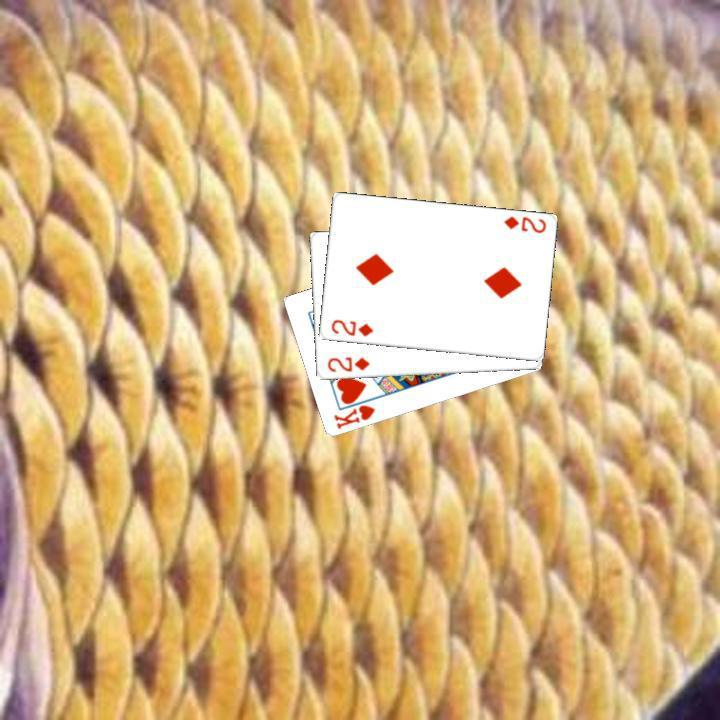2: (326, 315, 375, 338), (499, 212, 548, 235), (323, 353, 371, 374)
K: (329, 401, 377, 431)
